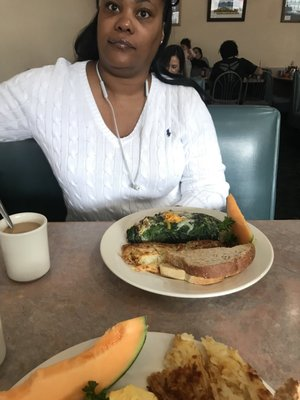pizza: (0, 212, 51, 283)
soup: (119, 208, 256, 286)
